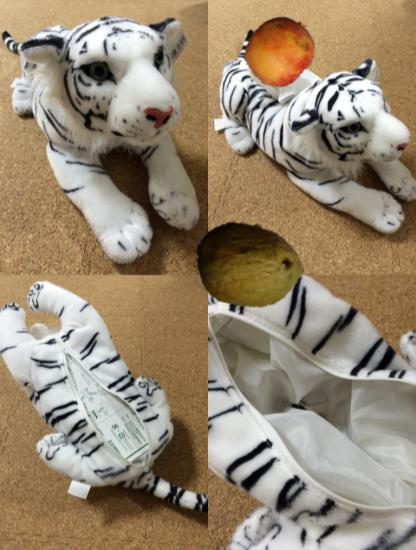Papaya: (195, 211, 304, 320)
Peach: (243, 15, 316, 88)
